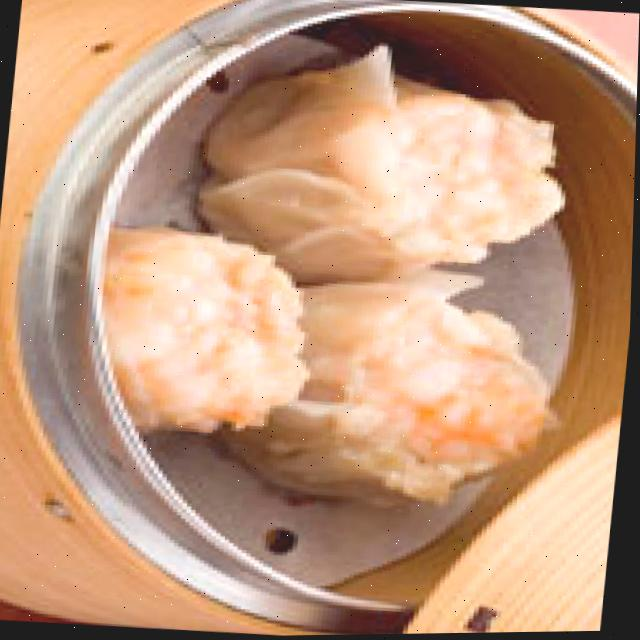带馅早点: (99, 52, 605, 517)
